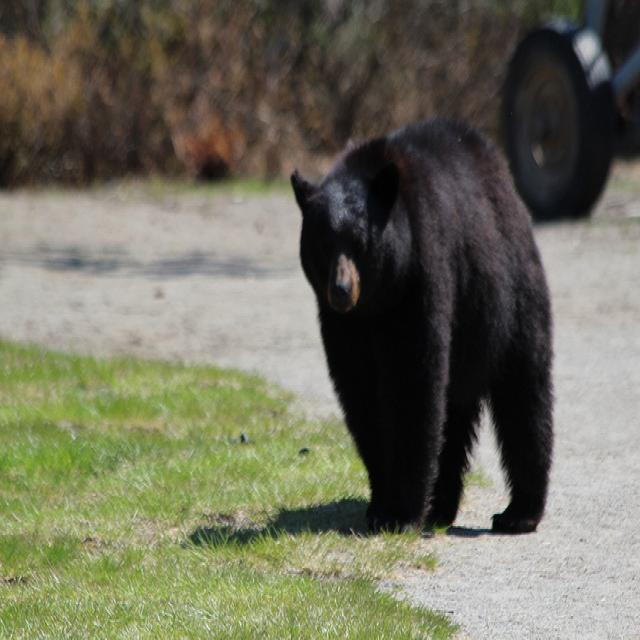Bear: (285, 109, 556, 535)
